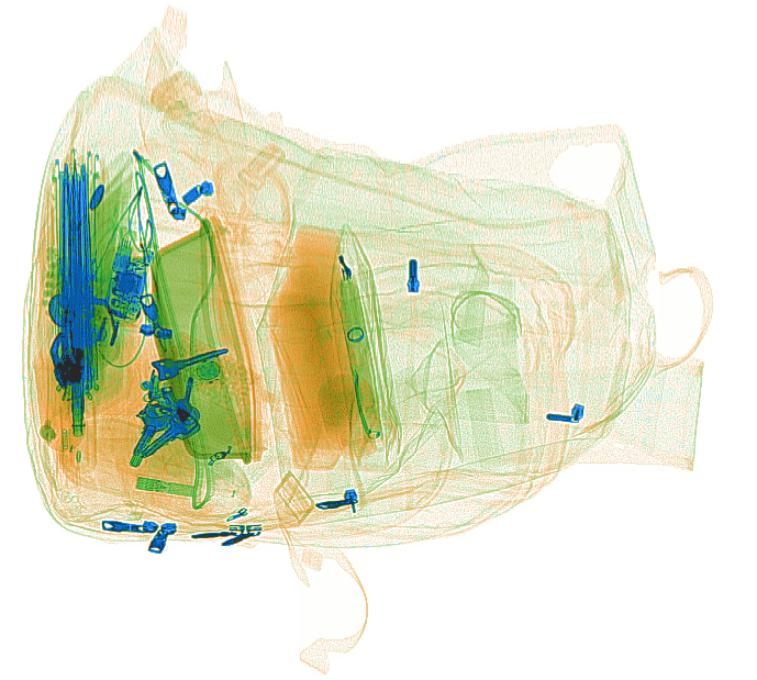USBFlashDisk: (134, 472, 195, 498)
